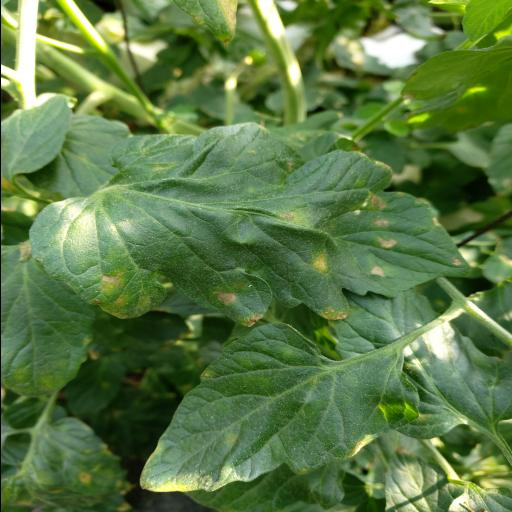disease_tomato: (28, 122, 468, 328), (140, 324, 420, 494)
